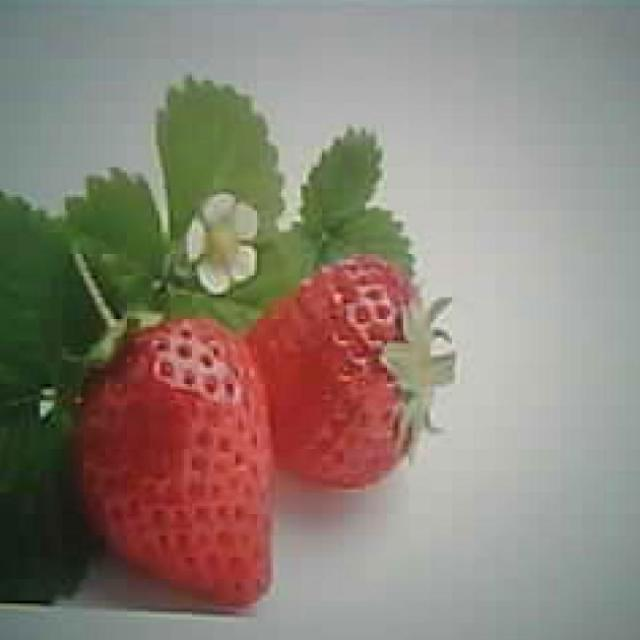Healthy Fruit: (70, 315, 276, 608), (244, 253, 454, 491)
